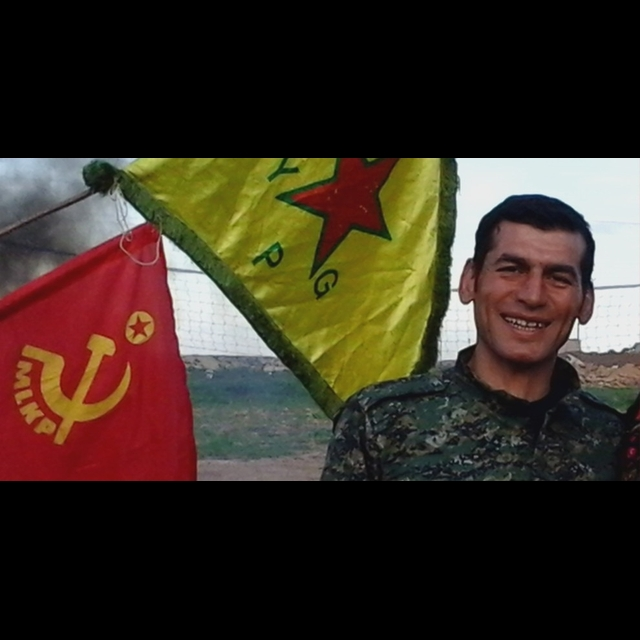MLKP: (12, 295, 169, 449)
YPG: (239, 156, 426, 313)
